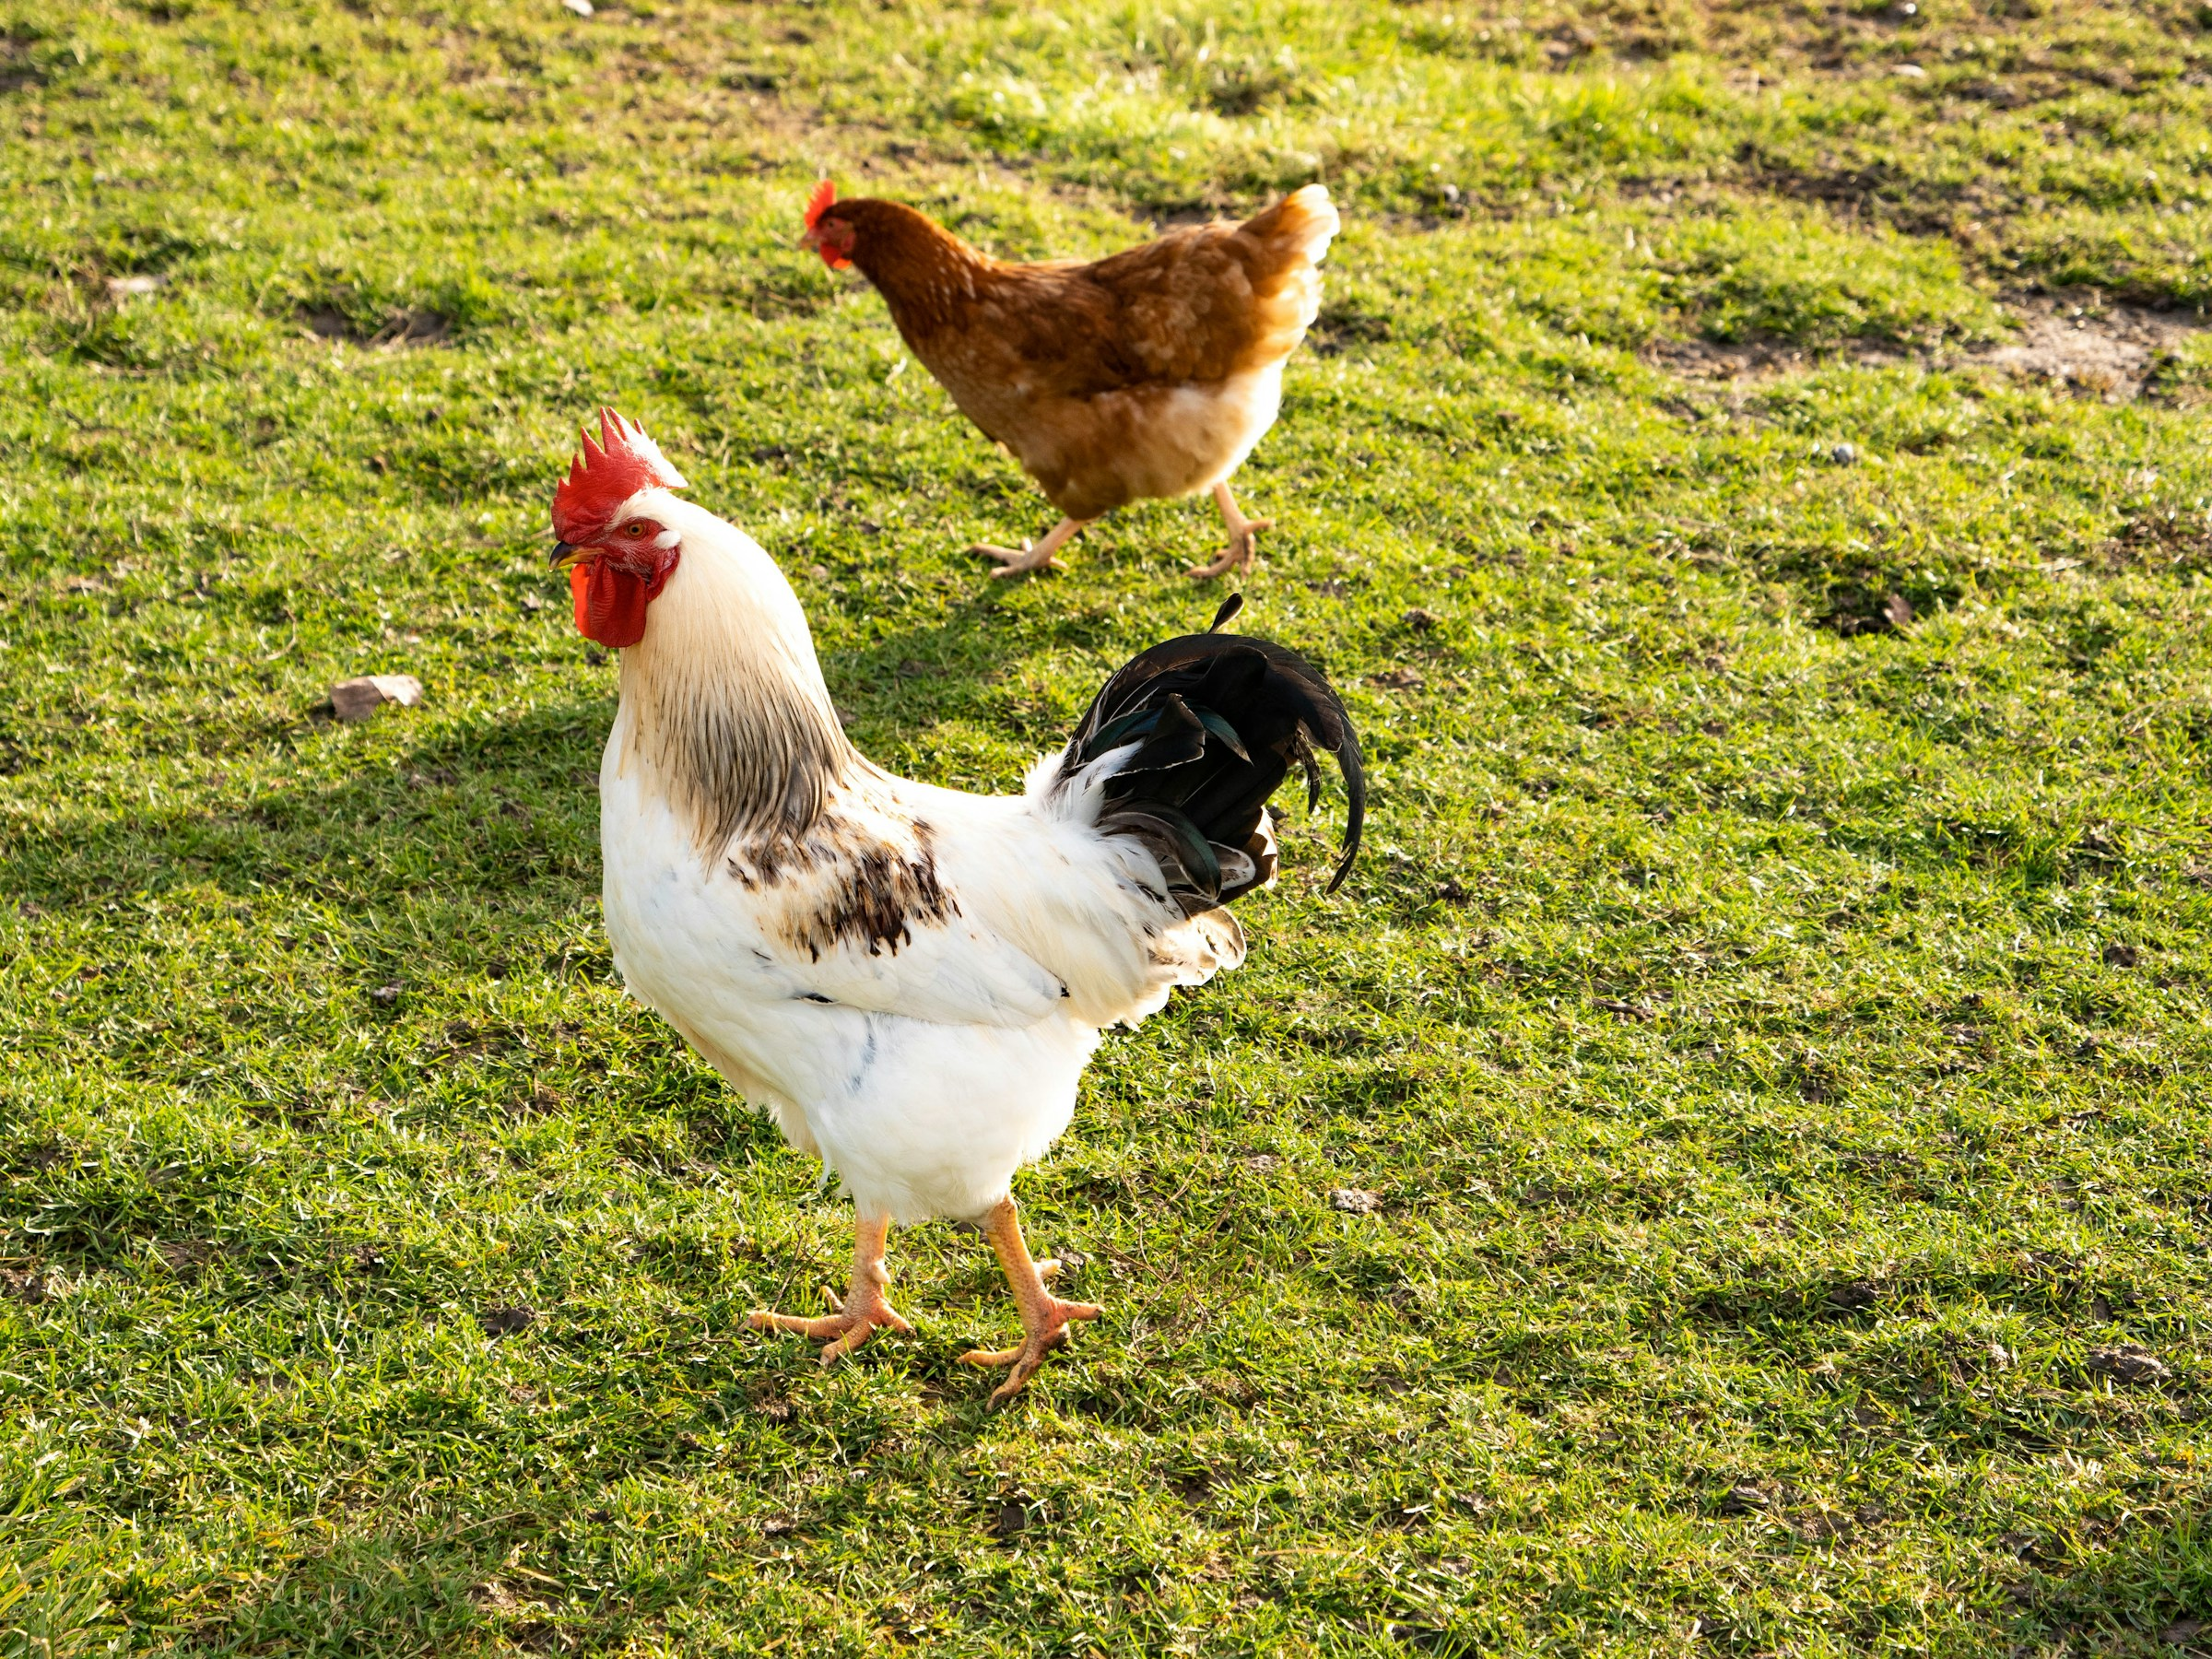hen: (477, 390, 1381, 1419), (770, 157, 1392, 587)
